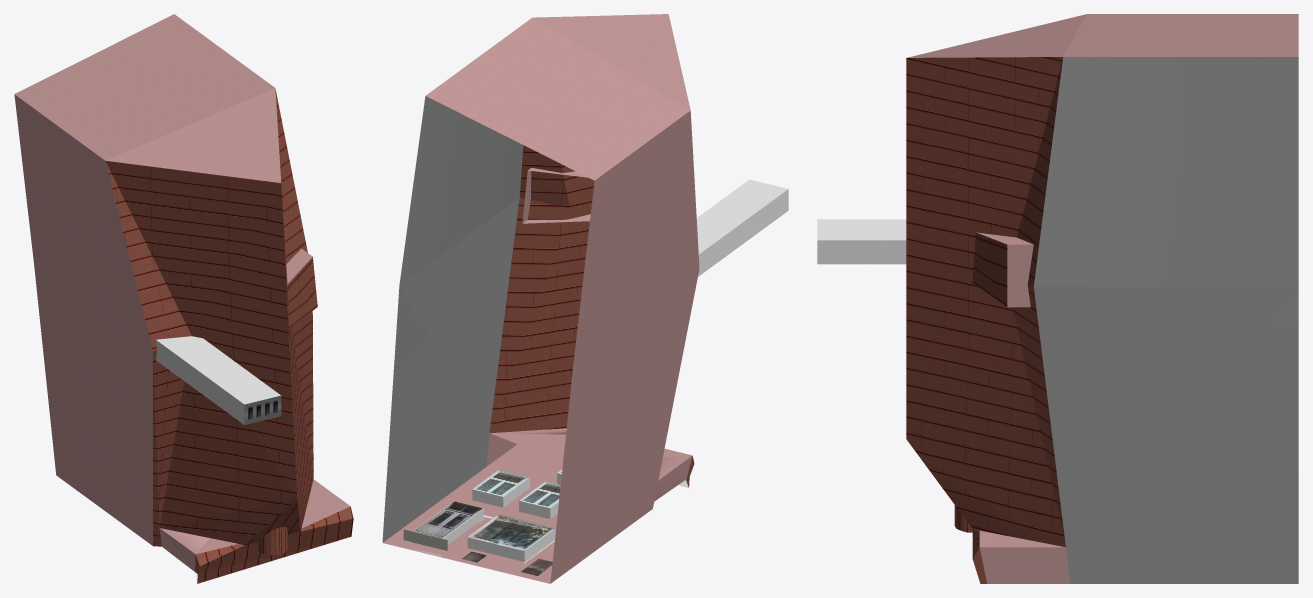
Rendered from Niguliste_6-origo.obj.
The picture shows the model from 3 angles, left to right: view 1: azimuth 30°, elevation 25°; view 2: azimuth 150°, elevation 25°; view 3: azimuth 270°, elevation 25°; orthographic projection. The views are drawn at different scales.
Parts seen in each view (by area): view 1: Niguliste_6; view 2: Niguliste_6; view 3: Niguliste_6.
Part boxes in pixels (x1,y1,x2,y2): Niguliste_6: [14, 14, 353, 583]; Niguliste_6: [382, 14, 788, 583]; Niguliste_6: [817, 14, 1298, 583].
Size of the model in its own units: 10.19 by 21.5 by 18.19.
